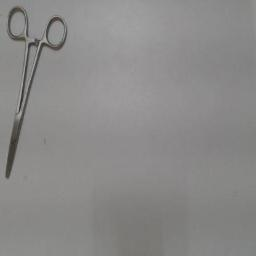Mayo Needle Holder: (2, 2, 72, 188)
